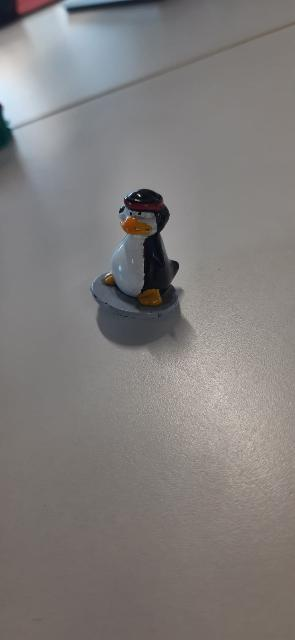Penguin: (91, 178, 190, 334)
